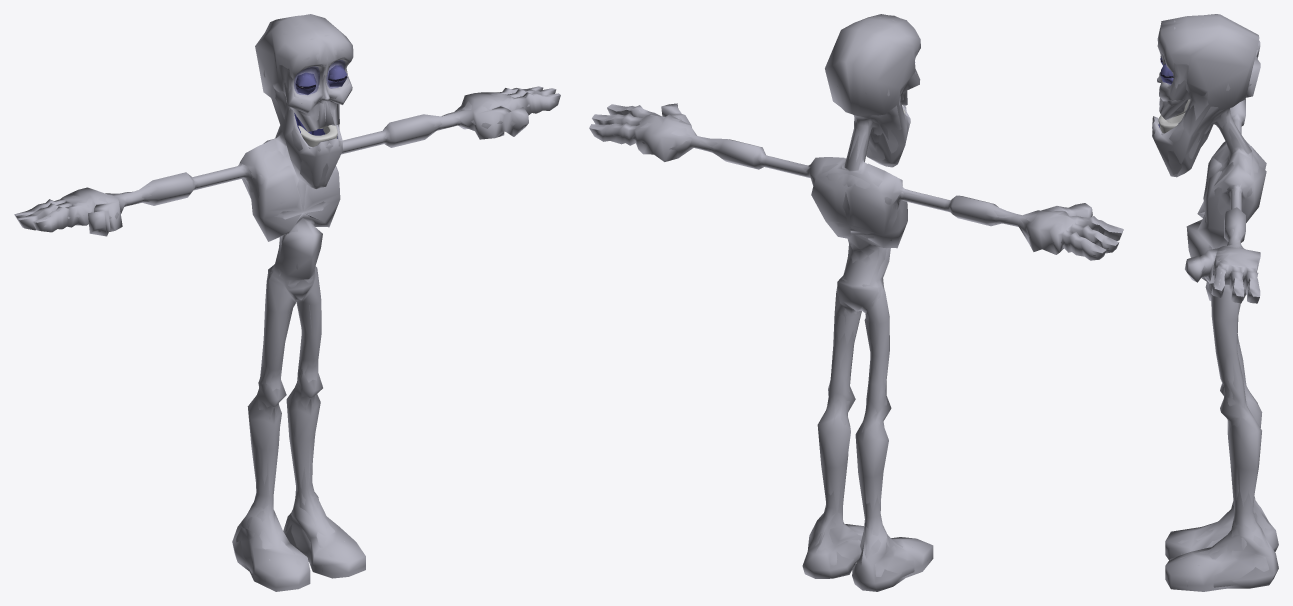
Rendered from Zombie.obj.
3 views of the same model, side by side, from view 1: azimuth 30°, elevation 25°; view 2: azimuth 150°, elevation 25°; view 3: azimuth 270°, elevation 25° (orthographic). The views are drawn at different scales.
Visible parts, largest first — view 1: Zombie Geometry DNM Zombie, Zombie_Smooth Zombie Geometry DNM; view 2: Zombie Geometry DNM Zombie, Zombie_Smooth Zombie Geometry DNM; view 3: Zombie Geometry DNM Zombie, Zombie_Smooth Zombie Geometry DNM, Zombie Geometry DNM Teeth_Lower.
Boxes of the visible parts, x1,y1,x2,y2 form: Zombie Geometry DNM Zombie: (14,14,560,591); Zombie_Smooth Zombie Geometry DNM: (25,21,554,581); Zombie Geometry DNM Zombie: (589,14,1123,591); Zombie_Smooth Zombie Geometry DNM: (596,17,1113,587); Zombie Geometry DNM Zombie: (1152,14,1278,591); Zombie_Smooth Zombie Geometry DNM: (1153,16,1271,587); Zombie Geometry DNM Teeth_Lower: (1158,112,1185,133).
Bounding box in the file's own units: 10.96 × 10.7 × 2.24.
